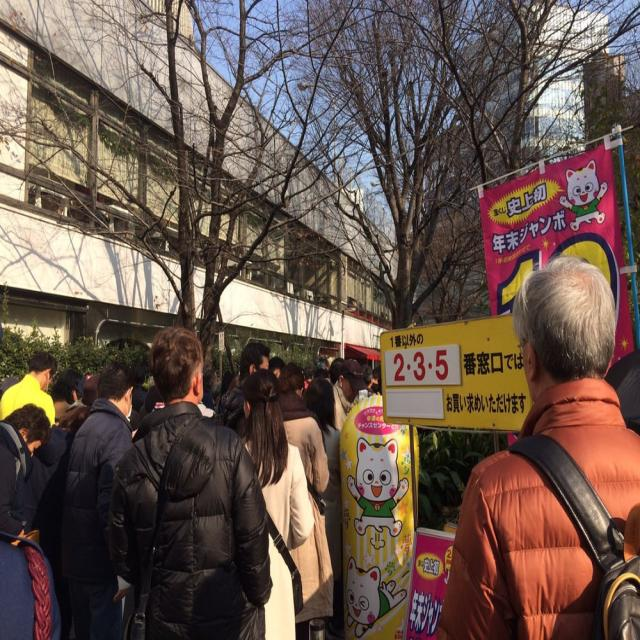body: (434, 248, 640, 639), (105, 322, 274, 640), (0, 345, 399, 442), (236, 367, 315, 640), (56, 368, 130, 639), (65, 359, 133, 639), (278, 361, 336, 640), (338, 441, 411, 639), (35, 406, 97, 639), (302, 376, 343, 639), (0, 478, 60, 640), (0, 402, 54, 547), (217, 338, 272, 432), (555, 157, 618, 237), (0, 350, 58, 429), (331, 358, 367, 432), (48, 368, 84, 427)
